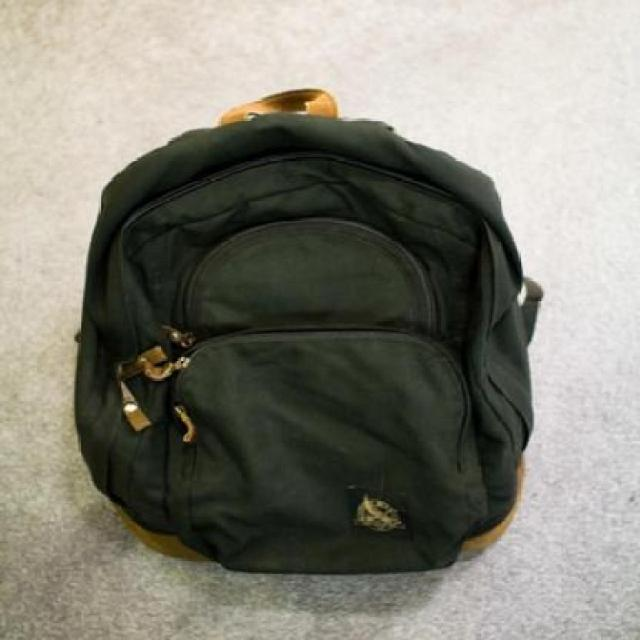backpack: (74, 81, 552, 584)
